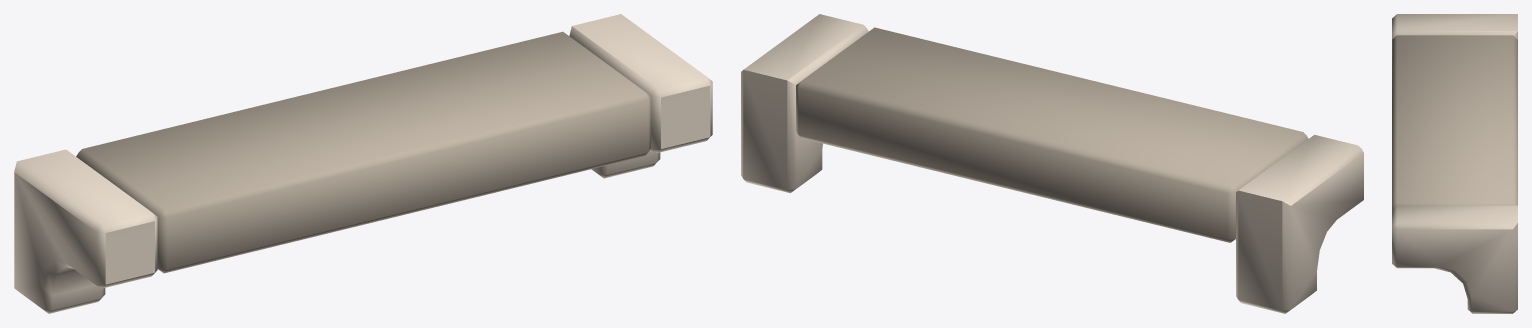
Rendered from shelf_A_big.obj.
3 renders of one model, left to right at view 1: azimuth 30°, elevation 25°; view 2: azimuth 150°, elevation 25°; view 3: azimuth 270°, elevation 25°, orthographic. The views are drawn at different scales.
Parts seen in each view (by area): view 1: shelf_A_big_Cube.028; view 2: shelf_A_big_Cube.028; view 3: shelf_A_big_Cube.028.
Boxes of the visible parts, x1,y1,x2,y2 form: shelf_A_big_Cube.028: (14, 14, 712, 313); shelf_A_big_Cube.028: (741, 14, 1363, 313); shelf_A_big_Cube.028: (1392, 14, 1517, 313).
Bounding box in the file's own units: 2 × 0.4 × 0.5.
1 material, 1 textured.
